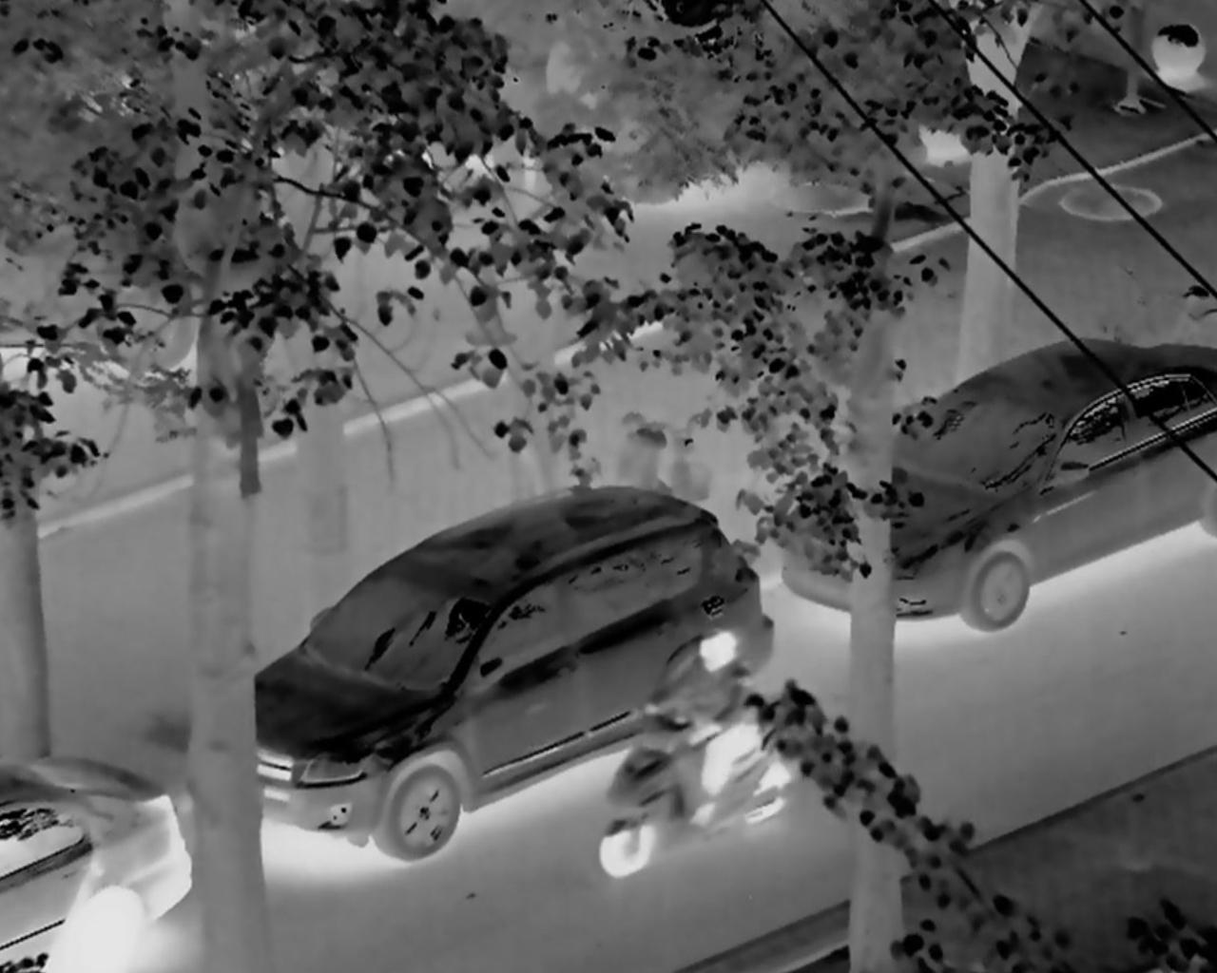person: (643, 628, 766, 840)
